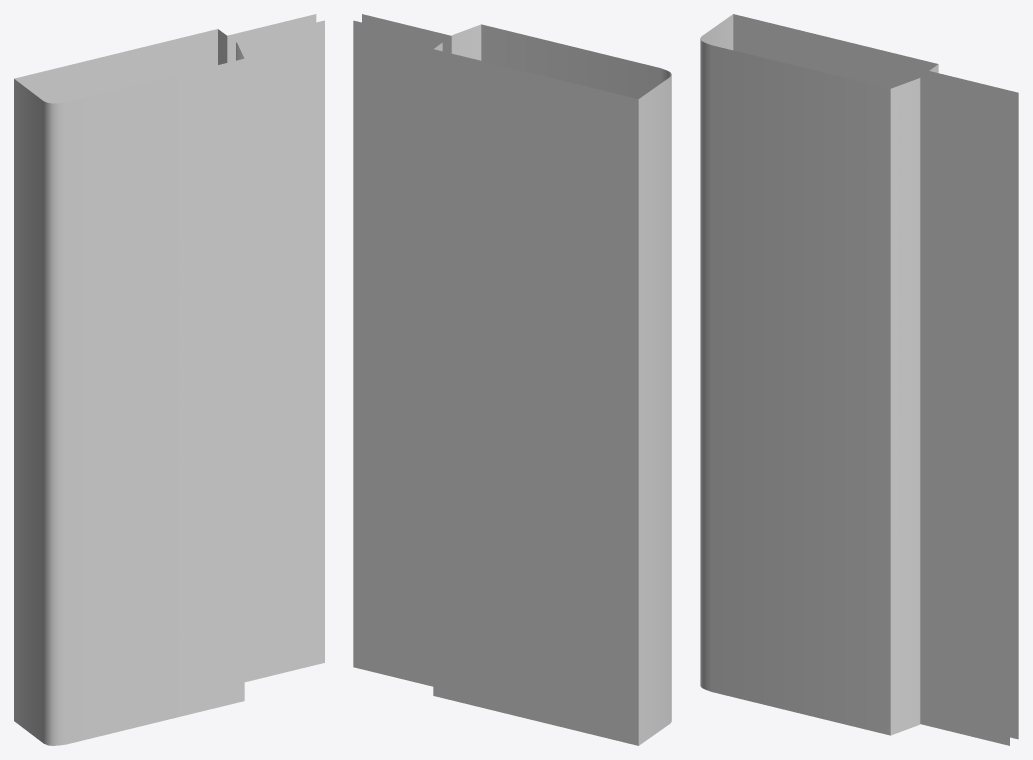
File: original-63.obj
3 renders of one model, left to right at view 1: azimuth 30°, elevation 25°; view 2: azimuth 150°, elevation 25°; view 3: azimuth 330°, elevation 25°, orthographic.
Visible parts, largest first — view 1: DF_21_CL1/DF_21_CL/mesh44/mesh44-geometry#mesh44-geometry; view 2: DF_21_CL1/DF_21_CL/mesh44/mesh44-geometry#mesh44-geometry; view 3: DF_21_CL1/DF_21_CL/mesh44/mesh44-geometry#mesh44-geometry.
Boxes of the visible parts, left/top/right/bottom form: DF_21_CL1/DF_21_CL/mesh44/mesh44-geometry#mesh44-geometry: left=14, top=14, right=324, bottom=745; DF_21_CL1/DF_21_CL/mesh44/mesh44-geometry#mesh44-geometry: left=353, top=14, right=671, bottom=745; DF_21_CL1/DF_21_CL/mesh44/mesh44-geometry#mesh44-geometry: left=700, top=14, right=1018, bottom=745.
Bounding box in the file's own units: 0.1444 × 0.3019 × 0.0316.
